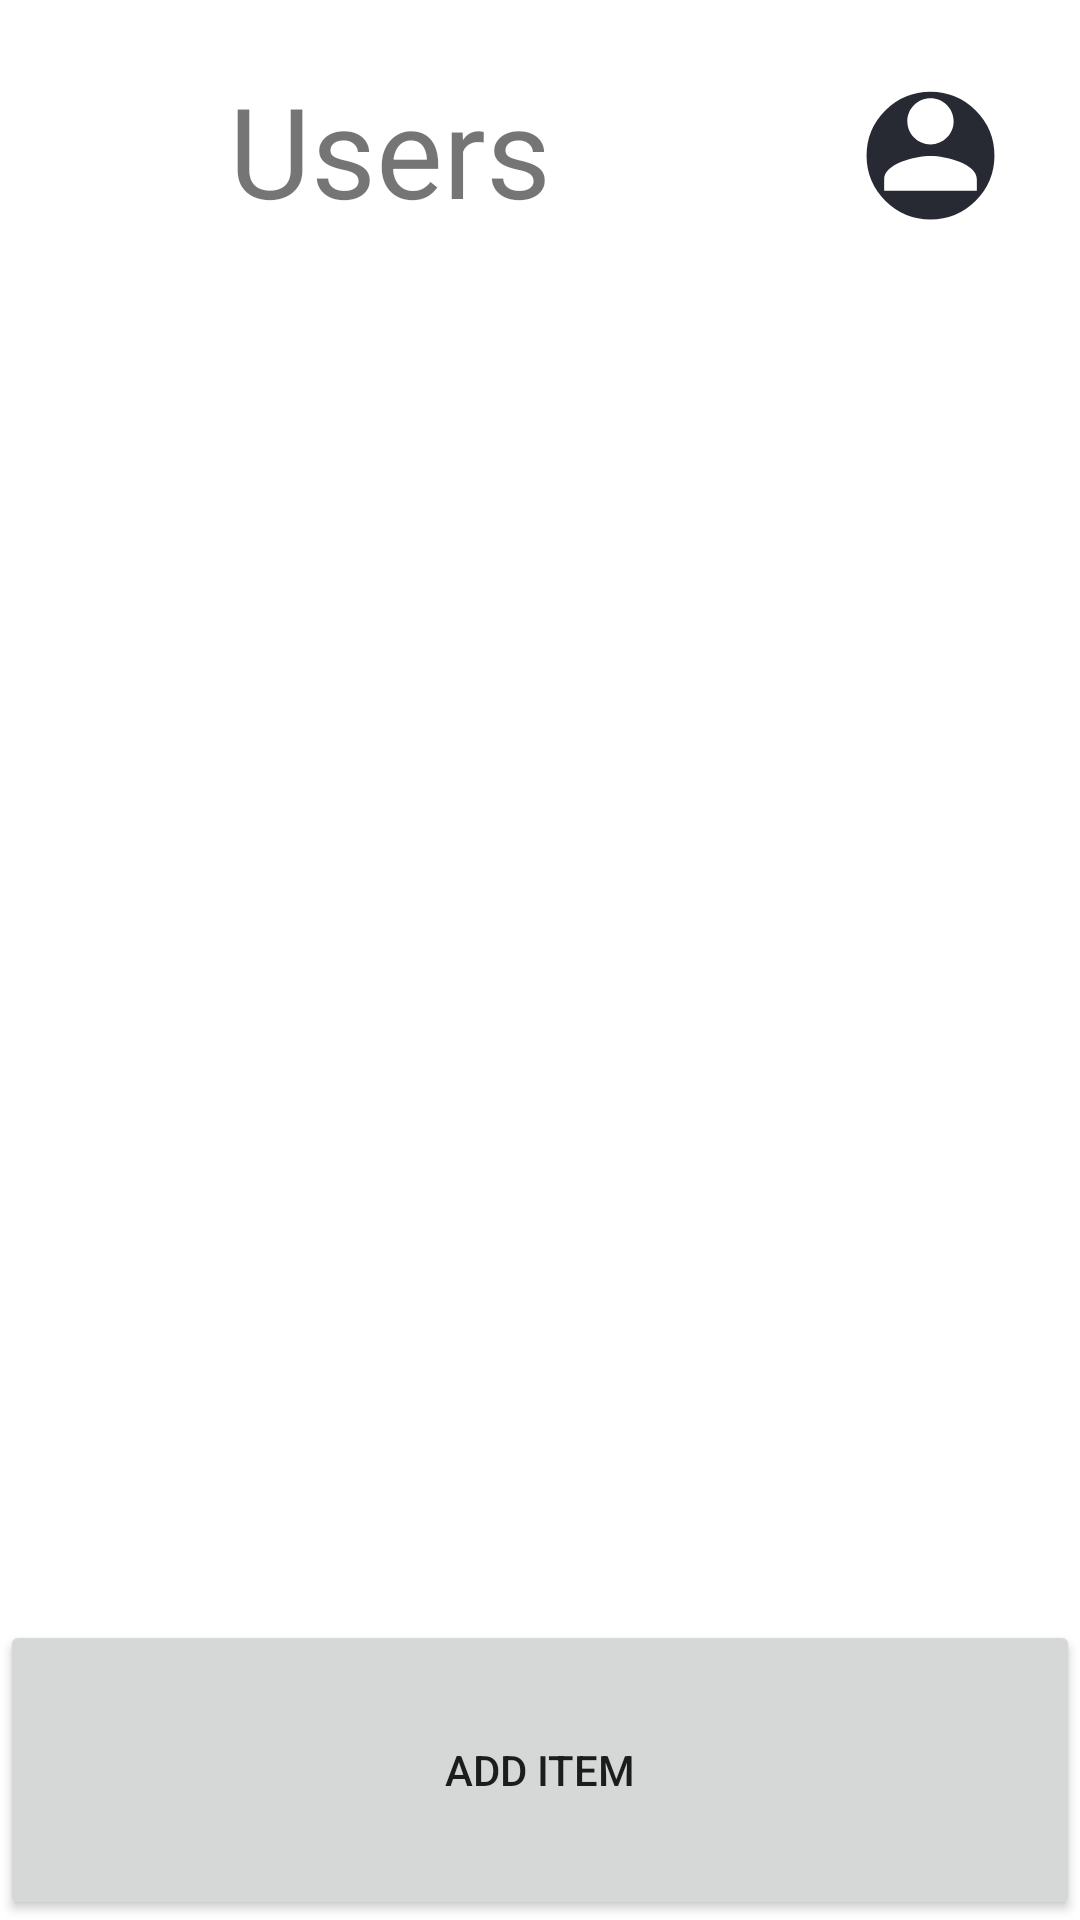

Icon click points for this 1080×1920 phone screenshot, format [x,y]:
account: [930,155]
